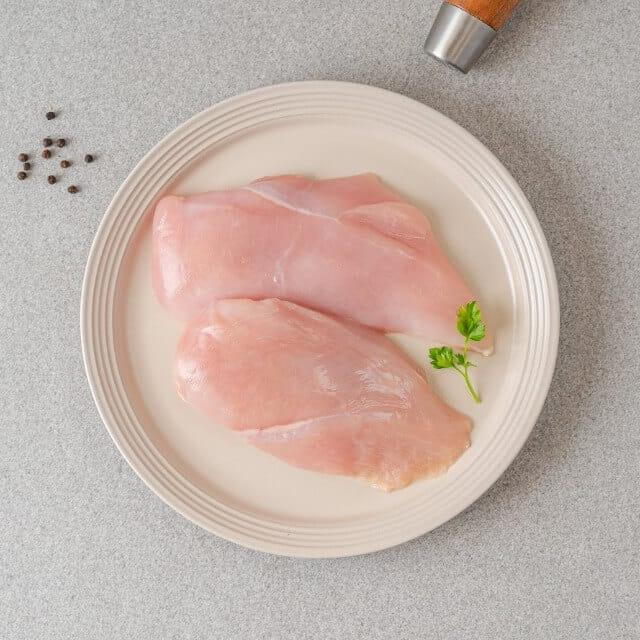chicken: (148, 173, 492, 356), (171, 296, 474, 493)
